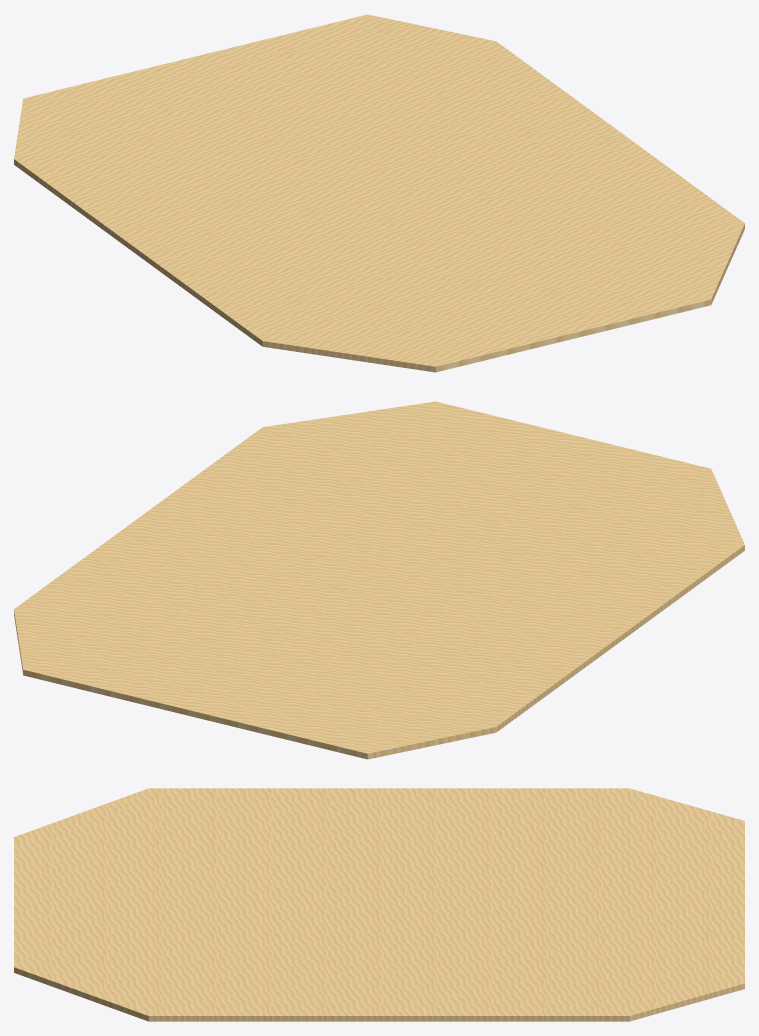
File: seabed-13-CG4CDDCg.glb
3 views of the same model, one above another, from view 1: azimuth 30°, elevation 25°; view 2: azimuth 150°, elevation 25°; view 3: azimuth 270°, elevation 25° (orthographic). The views are drawn at different scales.
Parts seen in each view (by area): view 1: SW_SandShelf; view 2: SW_SandShelf; view 3: SW_SandShelf.
Boxes of the visible parts, left/top/right/bottom form: SW_SandShelf: left=14, top=14, right=744, bottom=372; SW_SandShelf: left=14, top=401, right=744, bottom=759; SW_SandShelf: left=14, top=788, right=744, bottom=1021.
Size of what is drawn, in the model's own units: 28 by 0.32 by 38.
1 material, 1 textured.
